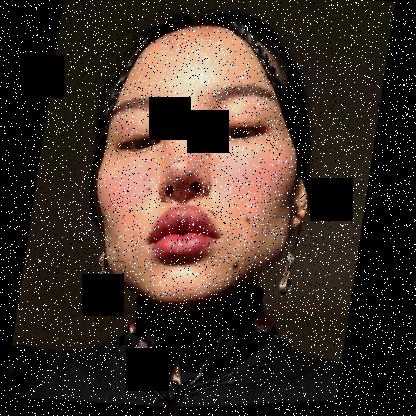Female: (79, 14, 334, 320)
